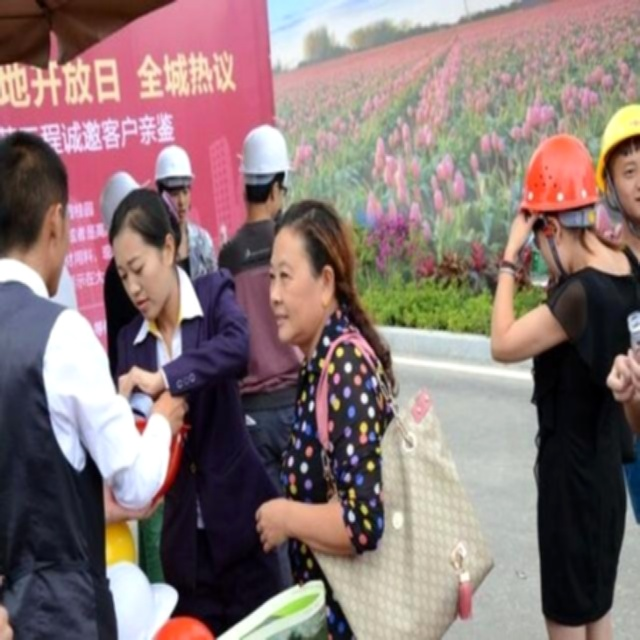Con_Casco: (524, 134, 597, 282)
Sin_Casco_Mascarrilla: (268, 199, 352, 346), (2, 133, 74, 288)
